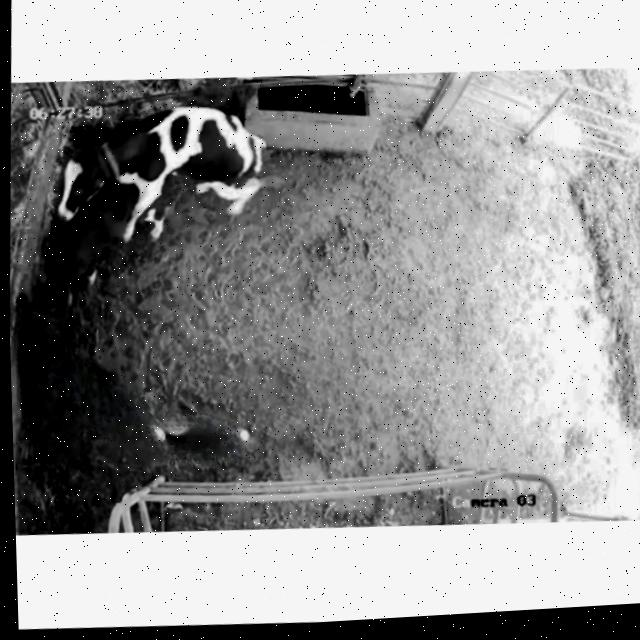ride: (50, 87, 299, 272)
